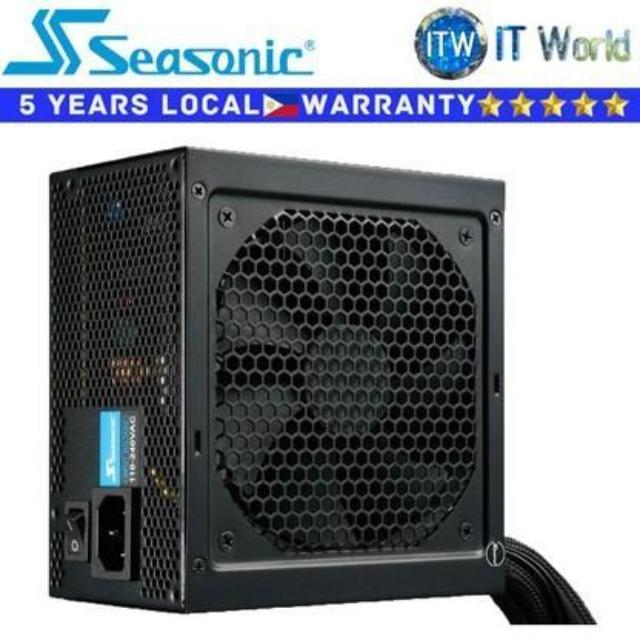PSU: (28, 137, 526, 612)
